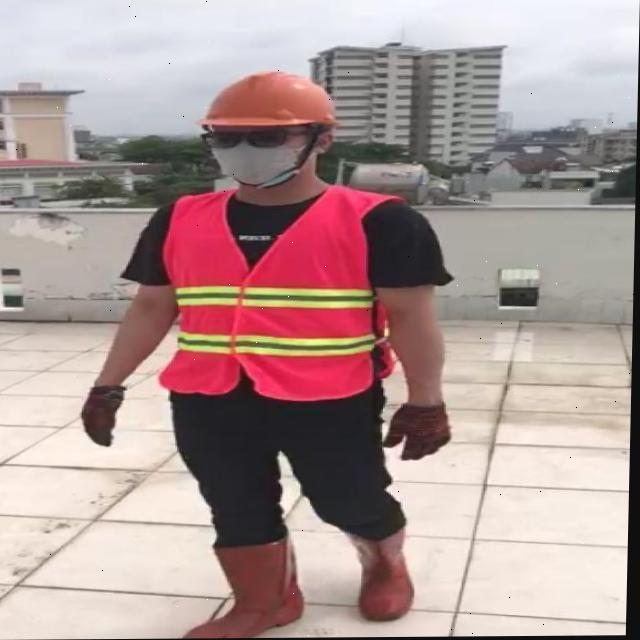Gloves: (386, 400, 455, 462), (83, 385, 129, 447)
Helmet: (199, 70, 341, 132)
Safety-Boot: (182, 529, 310, 639), (351, 525, 420, 623)
Safety-Vest: (160, 184, 407, 402)
